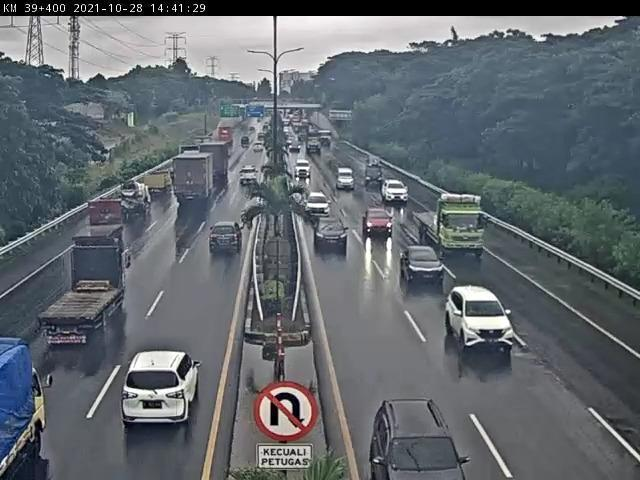car: (369, 399, 470, 480), (121, 351, 199, 425), (444, 286, 516, 353), (400, 247, 447, 288), (314, 218, 349, 252), (211, 222, 244, 256), (362, 210, 394, 238), (306, 192, 333, 218), (382, 181, 409, 205), (337, 168, 355, 190), (240, 166, 259, 185)
truck: (39, 243, 128, 341), (413, 194, 487, 258), (71, 202, 125, 249), (174, 153, 217, 201), (121, 180, 154, 219), (145, 171, 174, 196)
